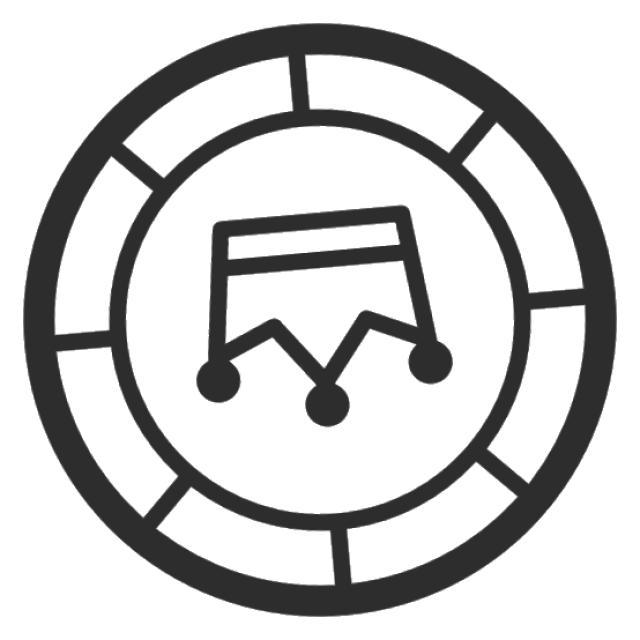coin: (15, 11, 624, 632)
